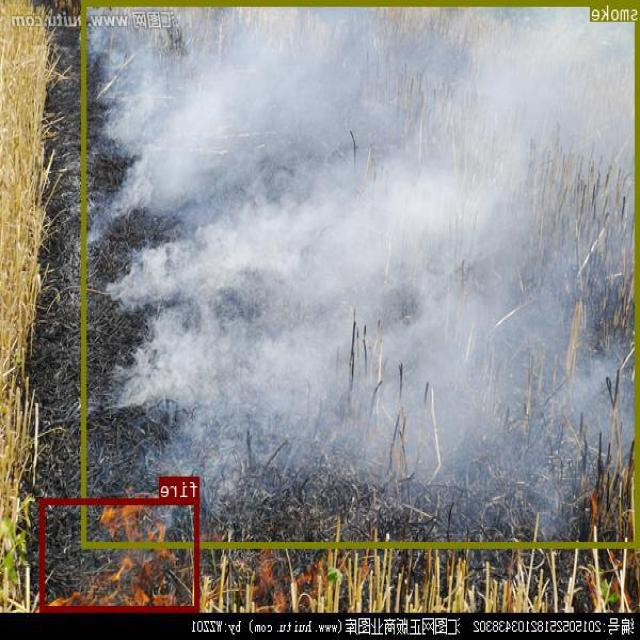fire: (41, 498, 200, 612)
smoke: (83, 0, 640, 547)
